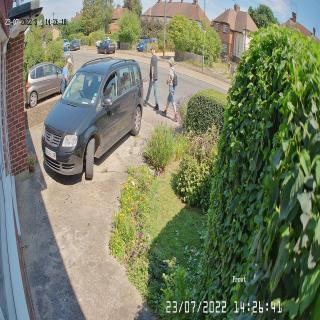car: (41, 59, 145, 181), (25, 62, 69, 108), (96, 39, 116, 55), (138, 38, 156, 51), (70, 40, 80, 51), (63, 38, 69, 46)
person: (144, 45, 160, 111), (162, 57, 178, 123), (62, 57, 73, 94)
